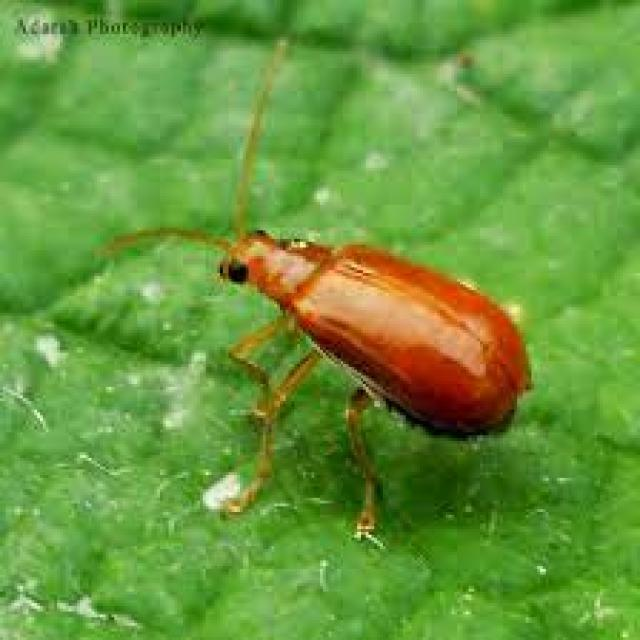Pumpkin Beetle: (79, 25, 546, 551)
